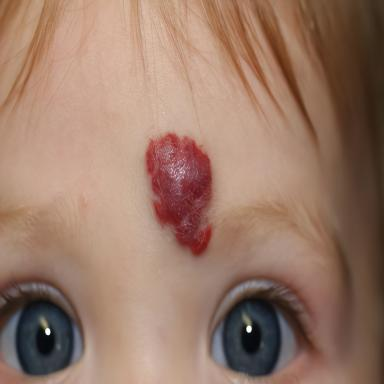Hemangiome: (146, 134, 212, 255)
